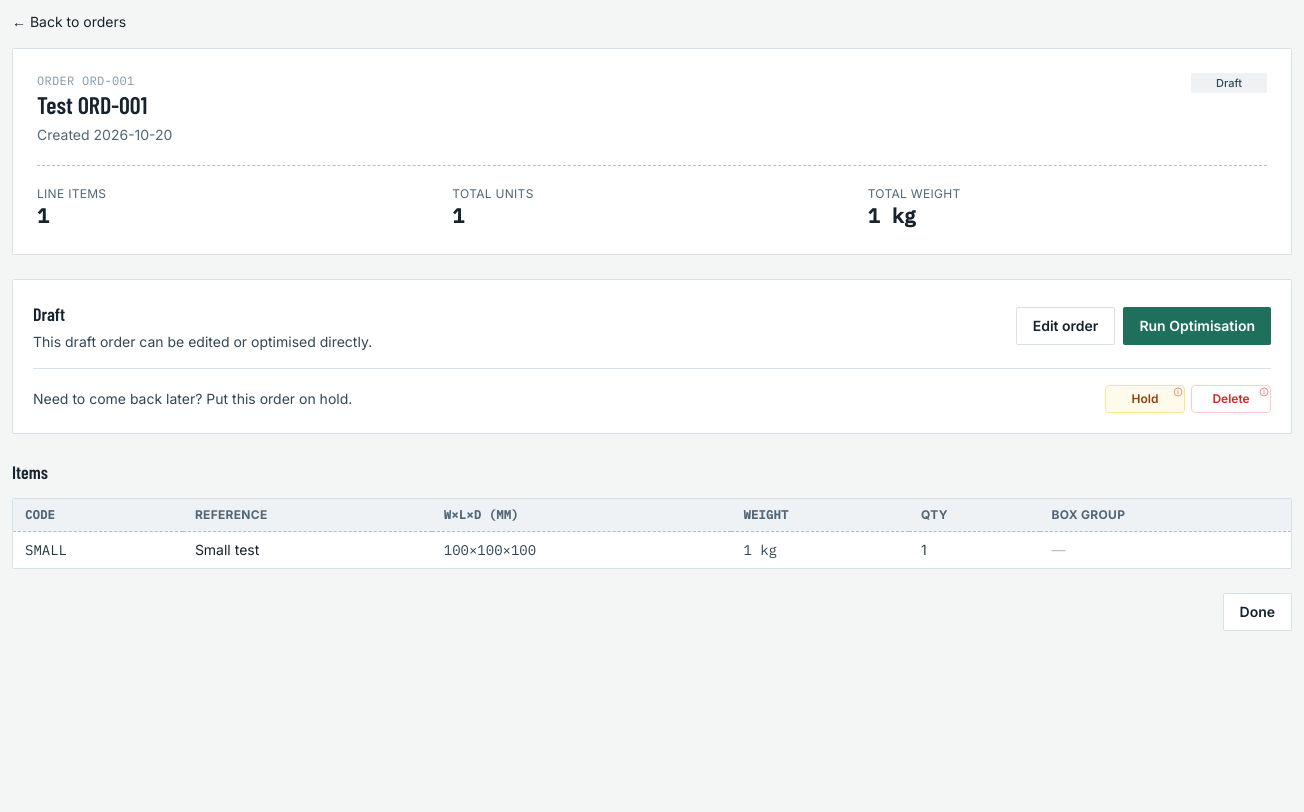
it: direct draft optimisation › preserves the draft and offers retry if a SUPERVISOR optimisation fails
Click the button "Run Optimisation": x=1197, y=326 [1123, 307, 1271, 345]
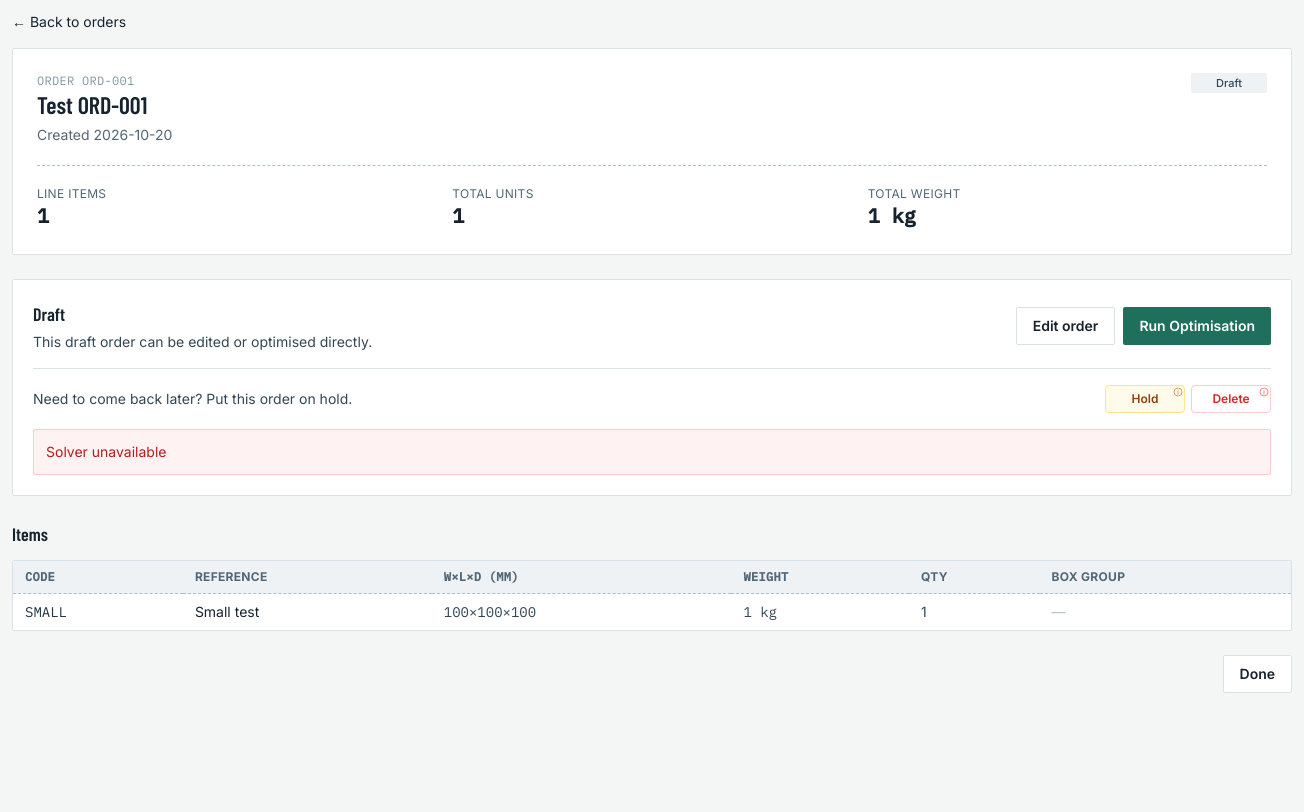
Check: the element showing "Draft" is shown, box [1191, 73, 1267, 93]
Check: the text "Solver unavailable" is shown, box [33, 429, 1271, 475]
